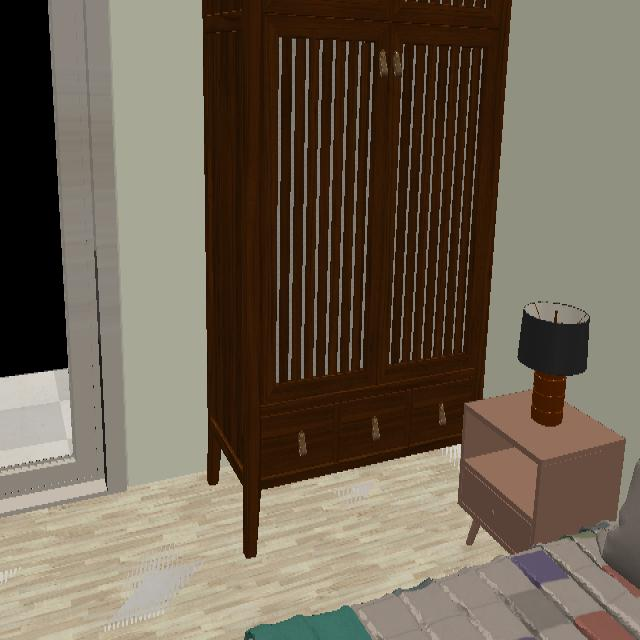bed: (245, 519, 640, 640)
lamp: (519, 301, 590, 431)
nighttable: (458, 376, 629, 556)
wardrobe: (203, 0, 513, 559)
